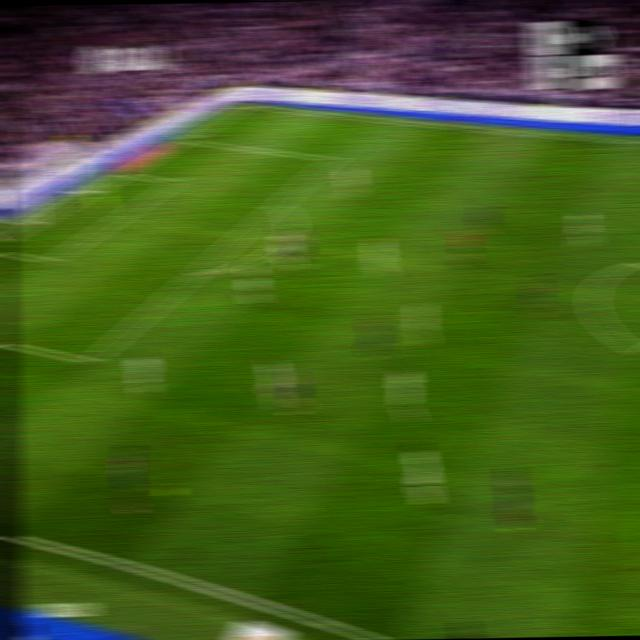bigarea_bottom_inner: (79, 348, 99, 371)
bigarea_top_inner: (323, 151, 339, 165)
bigarea_top_outter: (177, 132, 194, 144)
bottom_arc_area_intersection: (186, 262, 207, 280)
corner: (235, 100, 253, 110)
smallarea_bottom_inner: (41, 252, 59, 270)
smallarea_top_inner: (167, 176, 182, 186)
top_arc_area_intersection: (270, 196, 287, 209)
